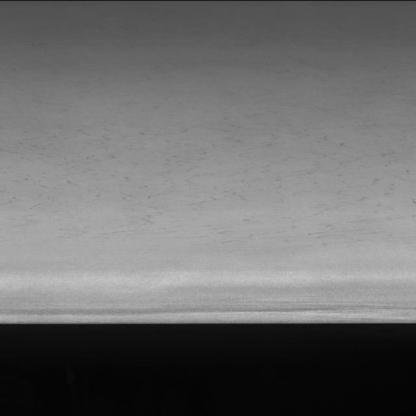silk_spot: (88, 141, 416, 261)
